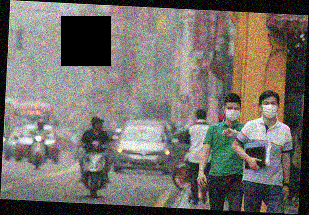with_mask: (261, 99, 278, 120), (224, 104, 242, 123)
